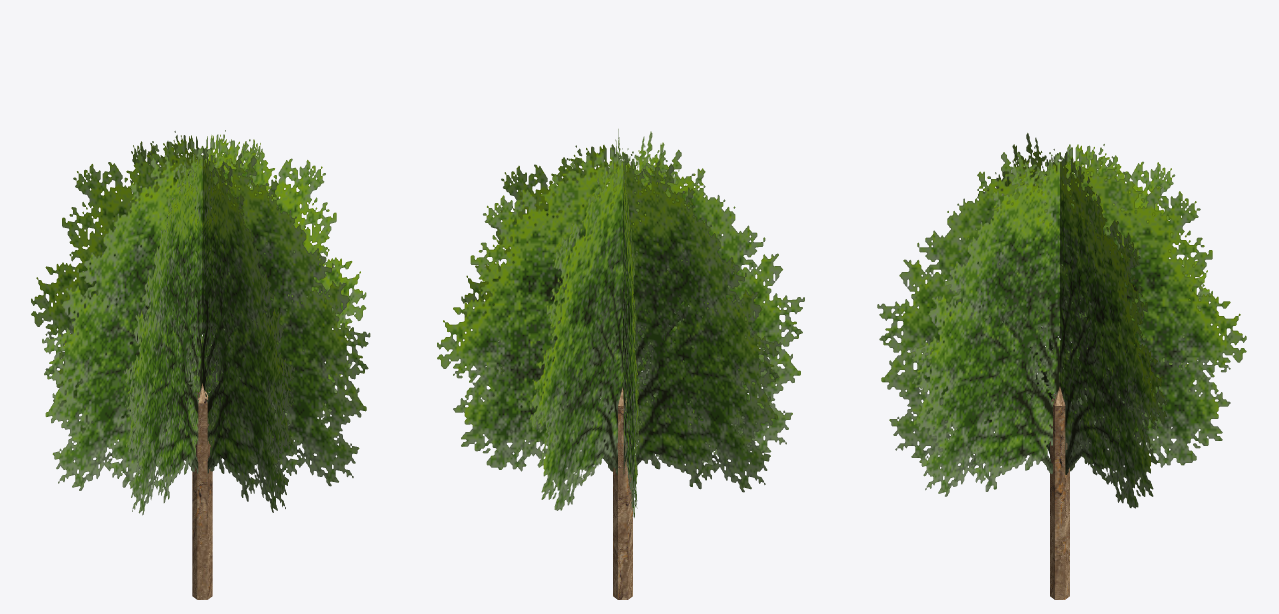
File: tree_oak.fbx
3 views of the same model, side by side, from view 1: azimuth 30°, elevation 25°; view 2: azimuth 150°, elevation 25°; view 3: azimuth 270°, elevation 25° (orthographic).
Parts seen in each view (by area): view 1: tree1.002; view 2: tree1.002; view 3: tree1.002.
Part boxes in pixels (x1,y1,x2,y2): tree1.002: [31, 130, 370, 599]; tree1.002: [437, 129, 804, 599]; tree1.002: [877, 133, 1246, 599].
Bounding box in the file's own units: 2080 × 2781 × 2080.
